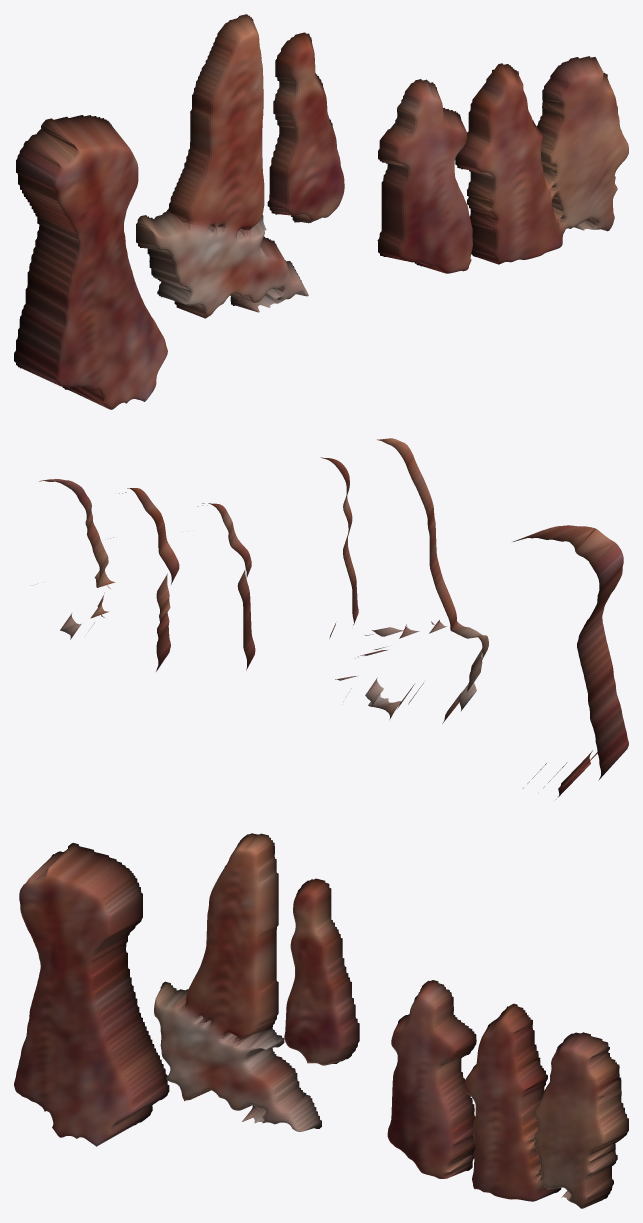
The model's file is rock_10_hollow.glb.
3 views of the same model, one above another, from view 1: azimuth 30°, elevation 25°; view 2: azimuth 150°, elevation 25°; view 3: azimuth 330°, elevation 25° (orthographic). The views are drawn at different scales.
Parts seen in each view (by area): view 1: GLTF; view 2: GLTF; view 3: GLTF.
Boxes of the visible parts, x1,y1,x2,y2 form: GLTF: (14,14,628,409); GLTF: (39,438,628,797); GLTF: (14,833,628,1208).
Size of the model in its own units: 6.78 by 3.58 by 0.7889.
